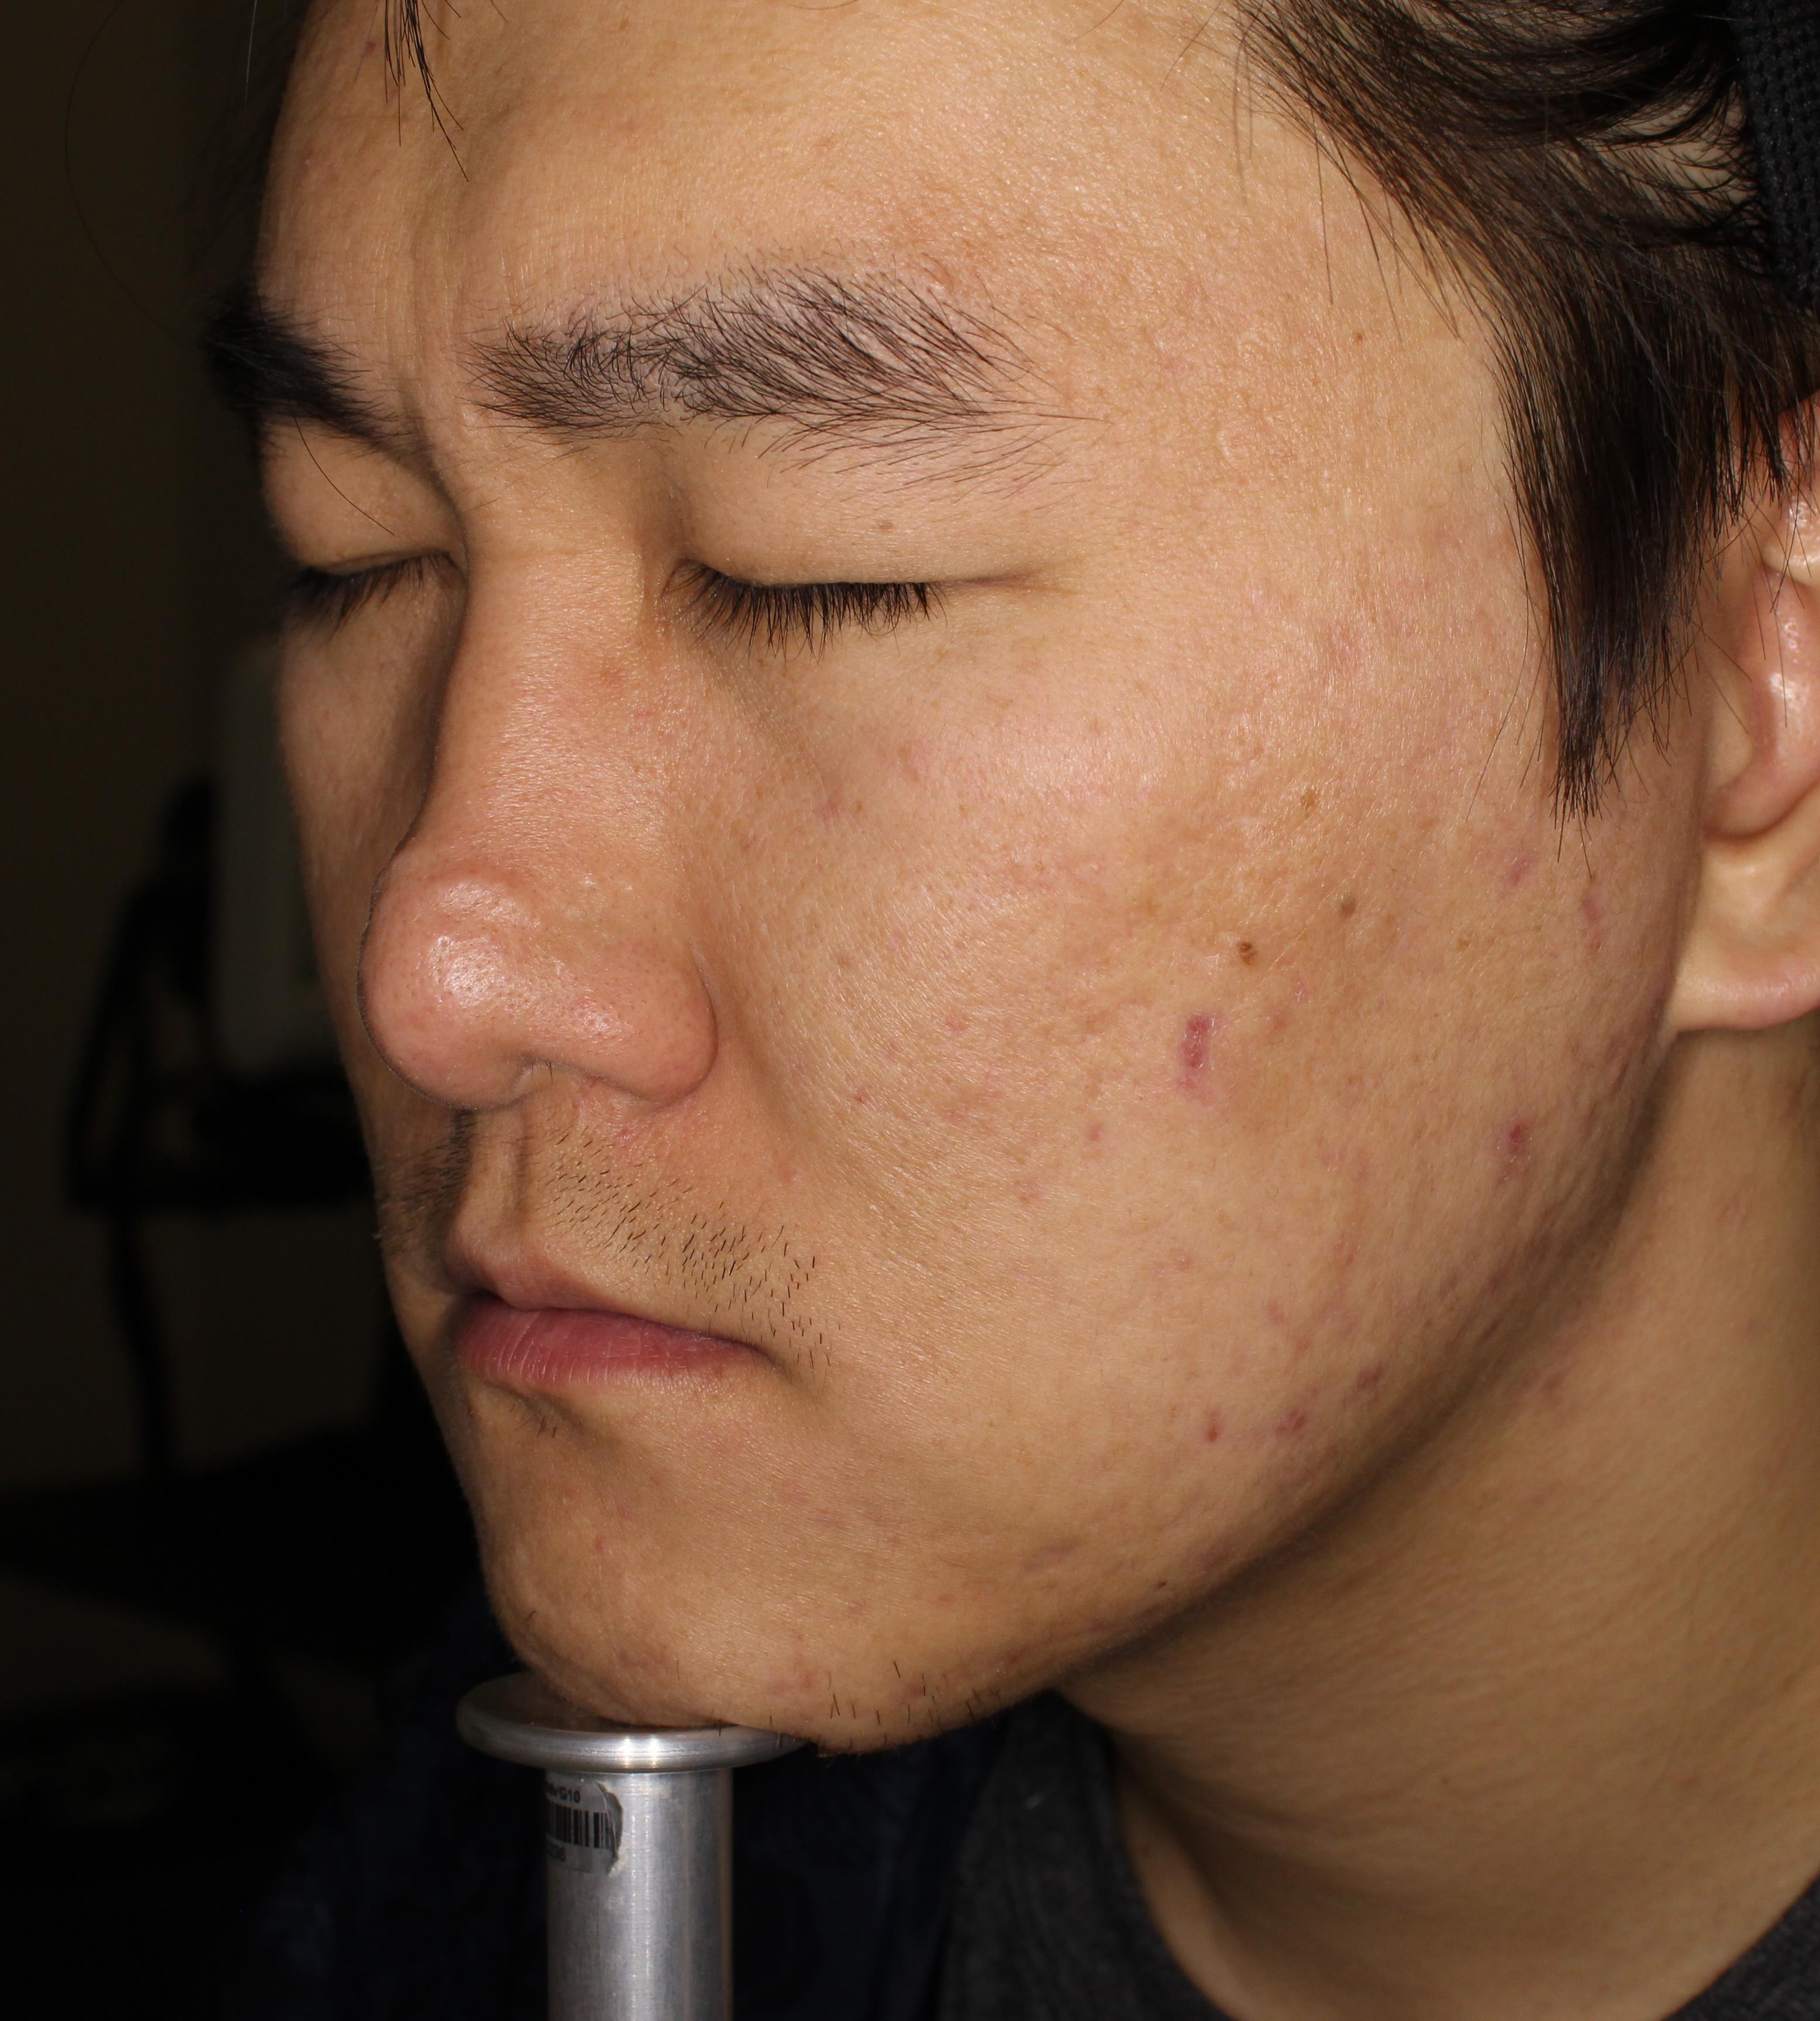fore: (1149, 994, 1233, 1092), (1493, 1083, 1556, 1173), (1337, 1347, 1409, 1410)
